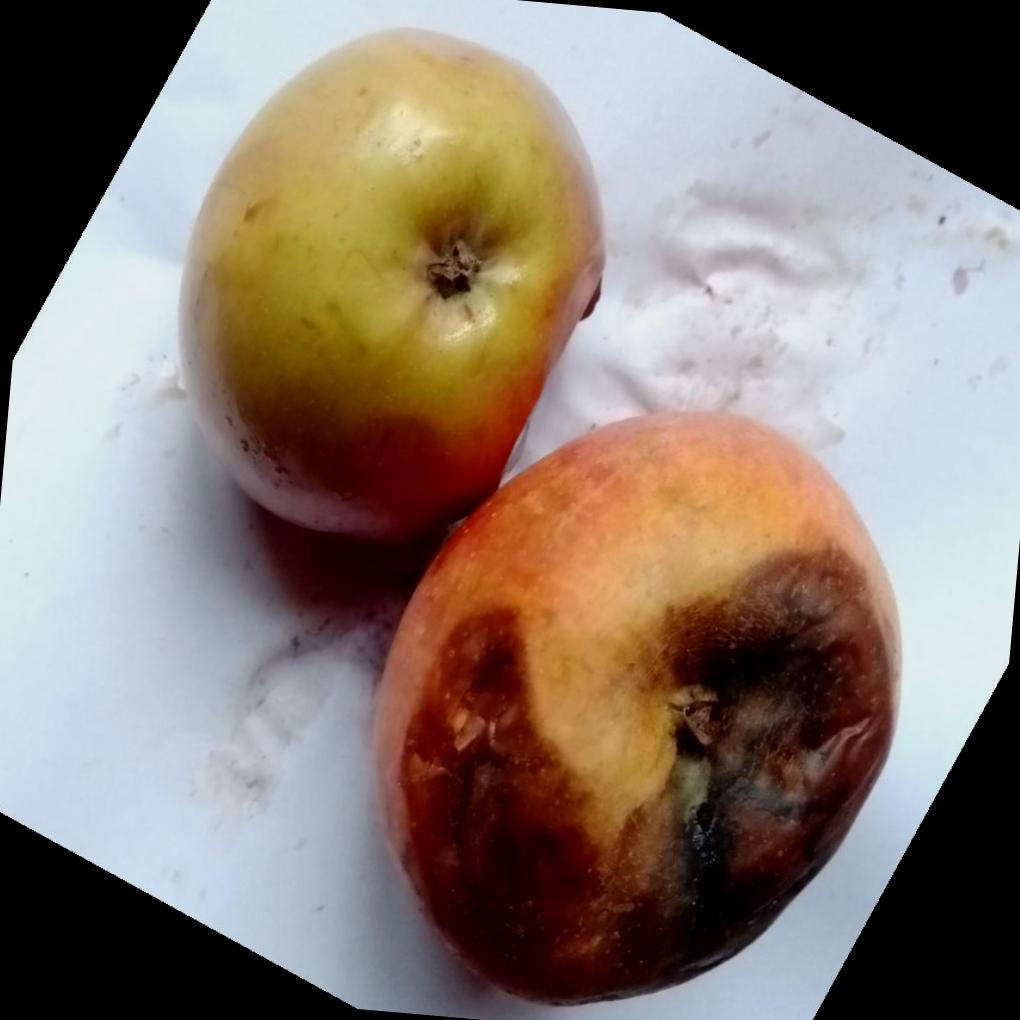FreshOrange: (173, 23, 903, 1006)
